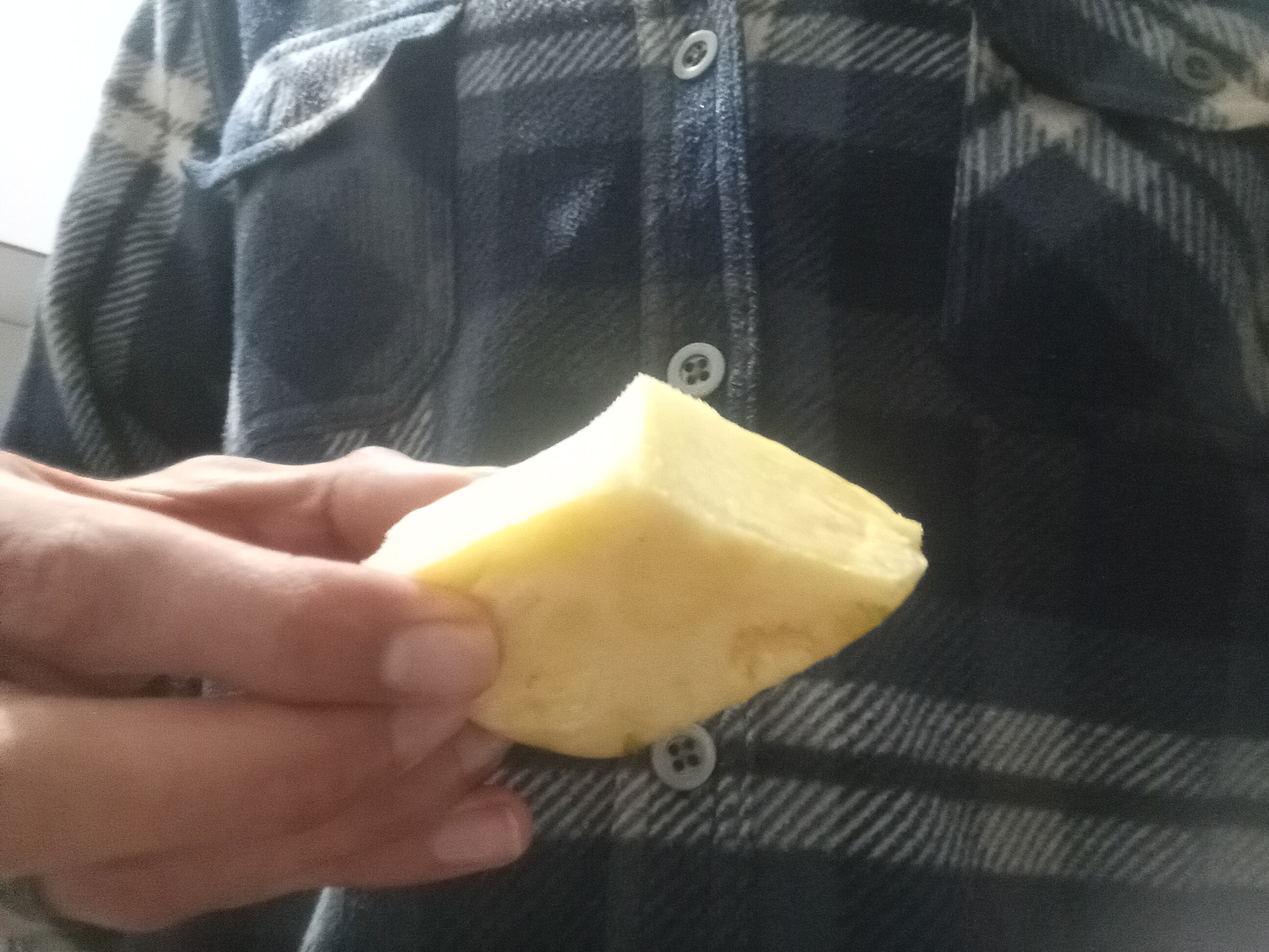Organico: (356, 370, 928, 762)
